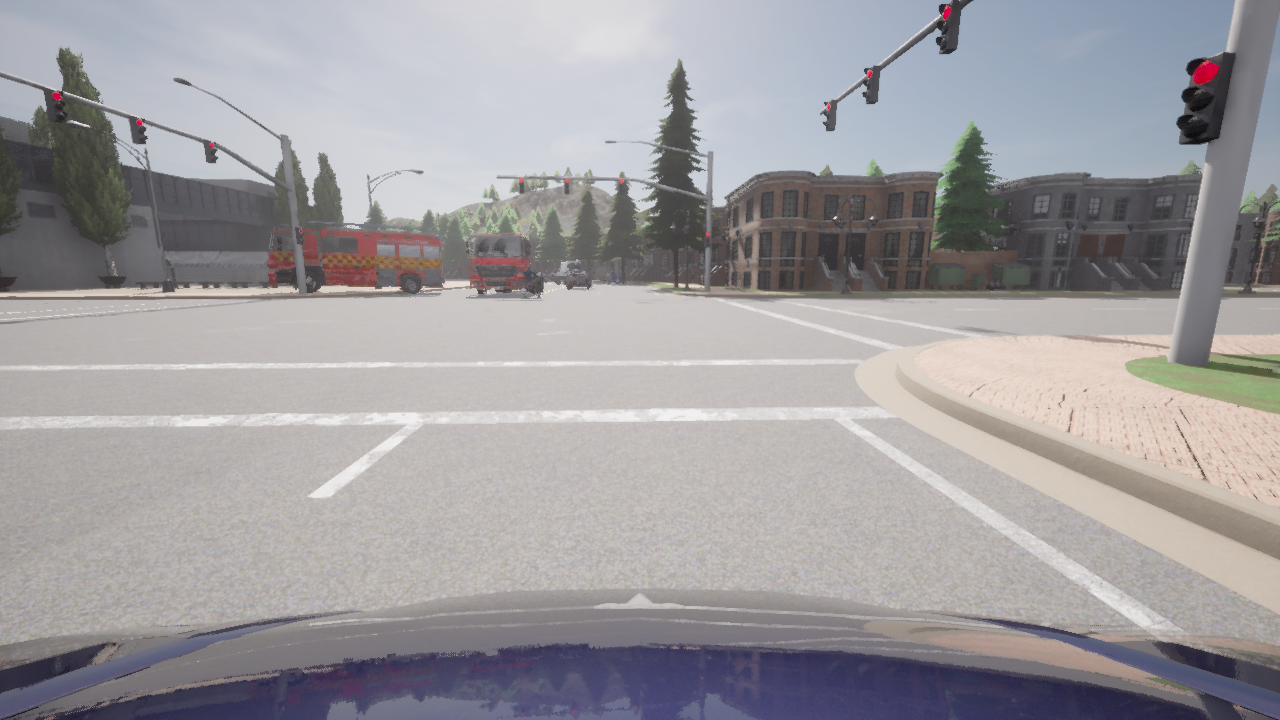cyclist: (0, 588, 1279, 719), (266, 220, 441, 294), (464, 232, 542, 295), (556, 261, 582, 283), (521, 272, 540, 298), (567, 270, 591, 288), (601, 271, 624, 285), (542, 272, 556, 281)
